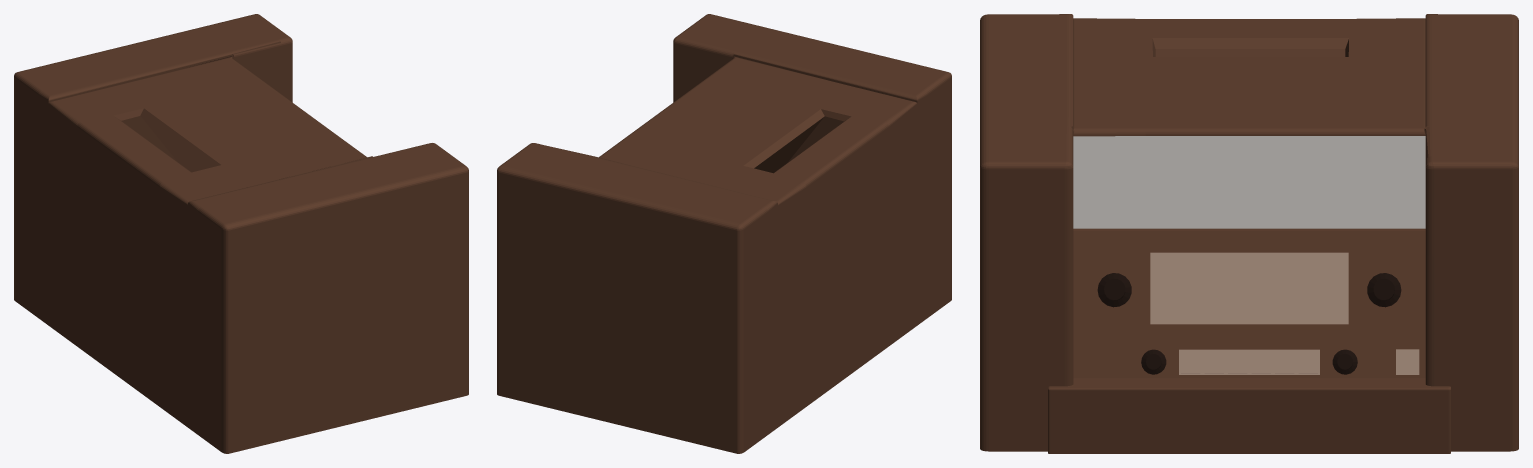
File: radiofixed.fbx
The picture shows the model from 3 angles, left to right: view 1: azimuth 30°, elevation 25°; view 2: azimuth 150°, elevation 25°; view 3: azimuth 270°, elevation 25°; orthographic projection. The views are drawn at different scales.
Visible parts, largest first — view 1: Rádio; view 2: Rádio; view 3: Rádio, Botões Quadrados, Botão grande 1, Botão grande 2, Botão Quadrado singular.
Boxes of the visible parts, box(x1,y1,x2,y2) form: Rádio: box(14, 14, 468, 453); Rádio: box(497, 14, 951, 453); Rádio: box(980, 14, 1518, 453); Botões Quadrados: box(1179, 349, 1319, 374); Botão grande 1: box(1367, 273, 1401, 307); Botão grande 2: box(1097, 273, 1131, 307); Botão Quadrado singular: box(1396, 349, 1419, 374).
Size of the model in its own units: 63.52 by 55.18 by 93.75.
